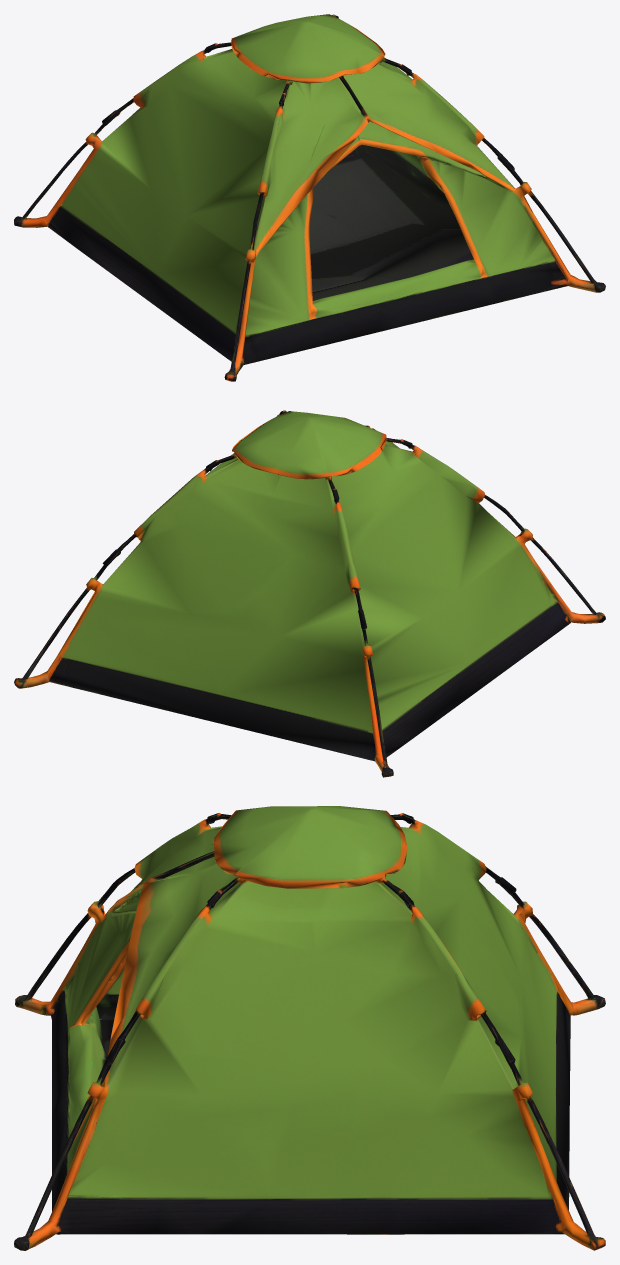
File: Meshy_AI_Olive_Green_Dome_Tent_0514084904_texture.fbx
The picture shows the model from 3 angles, top to bottom: view 1: azimuth 30°, elevation 25°; view 2: azimuth 150°, elevation 25°; view 3: azimuth 270°, elevation 25°; orthographic projection. The views are drawn at different scales.
Visible parts, largest first — view 1: Mesh_0; view 2: Mesh_0; view 3: Mesh_0.
Boxes of the visible parts, box(x1,y1,x2,y2) form: Mesh_0: box(14, 14, 605, 381); Mesh_0: box(14, 410, 605, 777); Mesh_0: box(14, 806, 605, 1250).
Bounding box in the file's own units: 191 × 113 × 191.
Materials: 1 (1 with a texture image).
